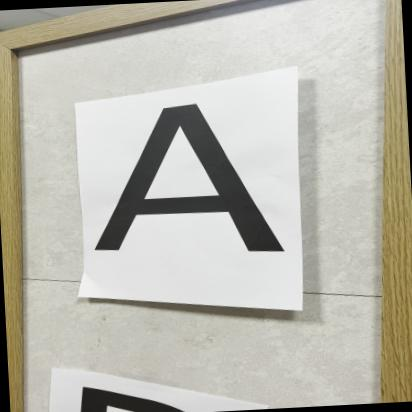seat: (83, 78, 297, 276)
